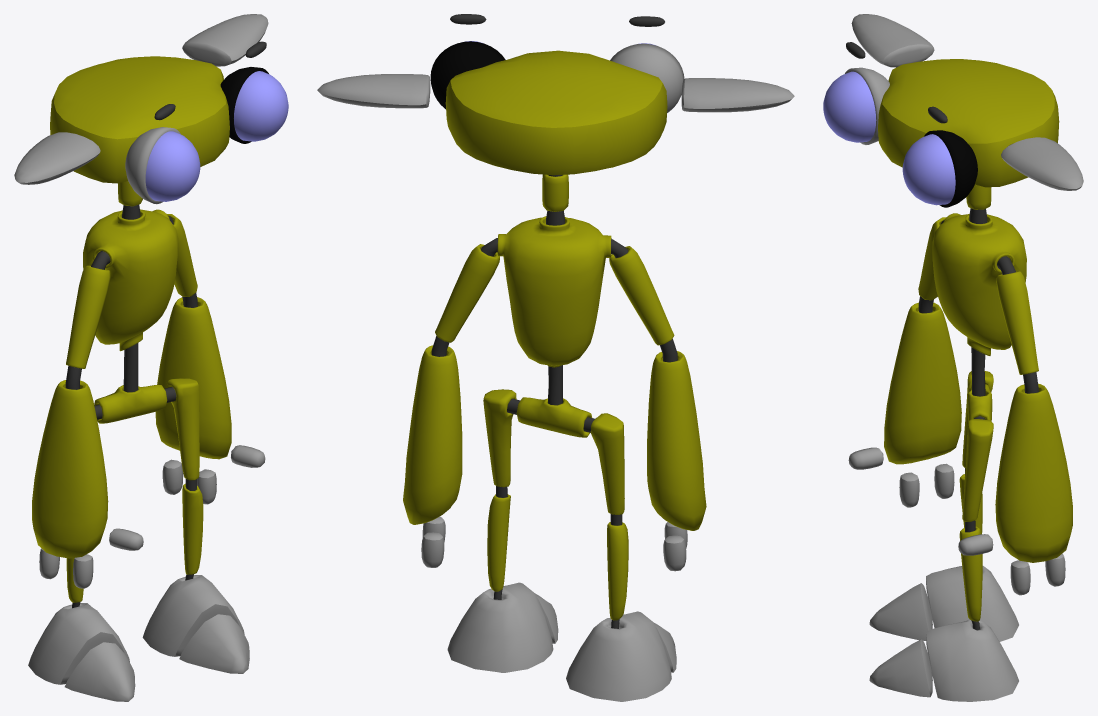
Rendered from die2.obj.
3 renders of one model, left to right at view 1: azimuth 30°, elevation 25°; view 2: azimuth 150°, elevation 25°; view 3: azimuth 270°, elevation 25°, orthographic. The views are drawn at different scales.
Parts seen in each view (by area): view 1: Mesh polySurface50, Mesh polySurface37, Mesh polySurface41, Mesh polySurface18, Mesh polySurface48, Mesh polySurface10, Mesh polySurface26, Mesh polySurface22, Mesh polySurface6, Mesh polySurface8, Mesh polySurface24, Mesh polySurface47 (+20 smaller); view 2: Mesh polySurface41, Mesh polySurface50, Mesh polySurface48, Mesh polySurface37, Mesh polySurface18, Mesh polySurface26, Mesh polySurface10, Mesh polySurface47, Mesh polySurface44, Mesh polySurface38, Mesh polySurface51, Mesh polySurface28 (+7 smaller); view 3: Mesh polySurface50, Mesh polySurface18, Mesh polySurface37, Mesh polySurface41, Mesh polySurface10, Mesh polySurface48, Mesh polySurface26, Mesh polySurface22, Mesh polySurface6, Mesh polySurface44, Mesh polySurface51, Mesh polySurface12 (+18 smaller).
Part boxes in pixels (x1=…): Mesh polySurface50: x1=54, y1=56, x2=225, y2=139; Mesh polySurface37: x1=32, y1=380, x2=108, y2=558; Mesh polySurface41: x1=83, y1=209, x2=178, y2=351; Mesh polySurface18: x1=155, y1=297, x2=231, y2=459; Mesh polySurface48: x1=50, y1=70, x2=229, y2=183; Mesh polySurface10: x1=142, y1=575, x2=244, y2=656; Mesh polySurface26: x1=28, y1=603, x2=129, y2=684; Mesh polySurface22: x1=145, y1=131, x2=200, y2=201; Mesh polySurface6: x1=234, y1=71, x2=288, y2=141; Mesh polySurface8: x1=179, y1=614, x2=249, y2=673; Mesh polySurface24: x1=64, y1=642, x2=135, y2=701; Mesh polySurface47: x1=14, y1=132, x2=100, y2=182; Mesh polySurface41: x1=497, y1=216, x2=611, y2=367; Mesh polySurface50: x1=450, y1=50, x2=662, y2=127; Mesh polySurface48: x1=445, y1=81, x2=667, y2=175; Mesh polySurface37: x1=647, y1=351, x2=706, y2=530; Mesh polySurface18: x1=403, y1=345, x2=462, y2=524; Mesh polySurface26: x1=566, y1=611, x2=671, y2=701; Mesh polySurface10: x1=447, y1=582, x2=553, y2=672; Mesh polySurface47: x1=683, y1=78, x2=794, y2=108; Mesh polySurface44: x1=317, y1=74, x2=427, y2=105; Mesh polySurface38: x1=609, y1=246, x2=674, y2=345; Mesh polySurface51: x1=435, y1=244, x2=499, y2=342; Mesh polySurface28: x1=590, y1=413, x2=624, y2=514; Mesh polySurface50: x1=882, y1=59, x2=1054, y2=143; Mesh polySurface18: x1=995, y1=383, x2=1072, y2=562; Mesh polySurface37: x1=884, y1=302, x2=961, y2=464; Mesh polySurface41: x1=932, y1=213, x2=1026, y2=355; Mesh polySurface10: x1=926, y1=619, x2=1018, y2=701; Mesh polySurface48: x1=878, y1=71, x2=1059, y2=187; Mesh polySurface26: x1=926, y1=566, x2=1018, y2=641; Mesh polySurface22: x1=823, y1=71, x2=876, y2=142; Mesh polySurface6: x1=902, y1=134, x2=955, y2=205; Mesh polySurface44: x1=1001, y1=137, x2=1083, y2=188; Mesh polySurface51: x1=996, y1=271, x2=1038, y2=374; Mesh polySurface12: x1=962, y1=418, x2=993, y2=521.
Bounding box in the file's own units: 8.88 × 14.23 × 5.65.
